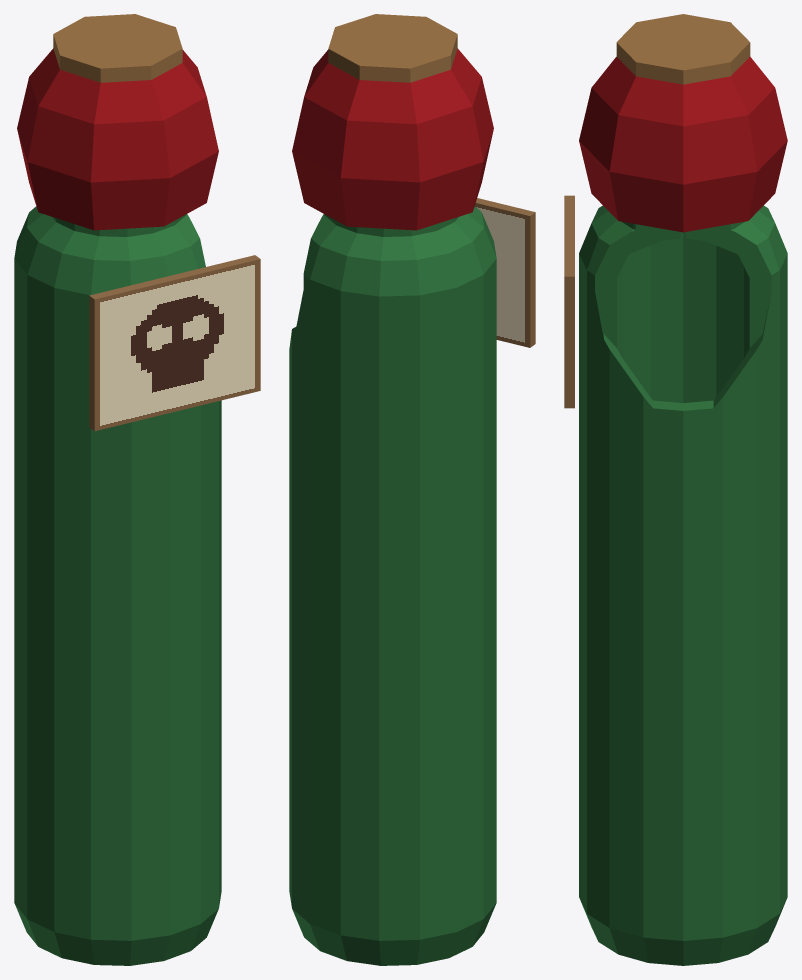
File: antidote.obj
3 renders of one model, left to right at view 1: azimuth 30°, elevation 25°; view 2: azimuth 150°, elevation 25°; view 3: azimuth 270°, elevation 25°, orthographic.
Visible parts, largest first — view 1: A_Flask.001_antidote_glass, S_Wax.001_antidote_wax, C_Label.001_antidote_label, S_Cork.001_antidote_cork; view 2: A_Flask.001_antidote_glass, S_Wax.001_antidote_wax, S_Cork.001_antidote_cork, C_Label.001_antidote_label; view 3: A_Flask.001_antidote_glass, S_Wax.001_antidote_wax, S_Cork.001_antidote_cork, C_Label.001_antidote_label.
Part boxes in pixels (left/top/right/bottom): A_Flask.001_antidote_glass: left=14, top=206, right=221, bottom=965; S_Wax.001_antidote_wax: left=17, top=48, right=218, bottom=230; C_Label.001_antidote_label: left=89, top=255, right=260, bottom=431; S_Cork.001_antidote_cork: left=53, top=14, right=182, bottom=82; A_Flask.001_antidote_glass: left=289, top=206, right=496, bottom=965; S_Wax.001_antidote_wax: left=292, top=48, right=493, bottom=230; S_Cork.001_antidote_cork: left=328, top=14, right=457, bottom=82; C_Label.001_antidote_label: left=474, top=198, right=535, bottom=347; A_Flask.001_antidote_glass: left=579, top=205, right=787, bottom=965; S_Wax.001_antidote_wax: left=579, top=56, right=787, bottom=232; S_Cork.001_antidote_cork: left=616, top=14, right=750, bottom=84; C_Label.001_antidote_label: left=564, top=195, right=574, bottom=408.
Size of the model in its own units: 0.575 by 2.69 by 0.6156.
